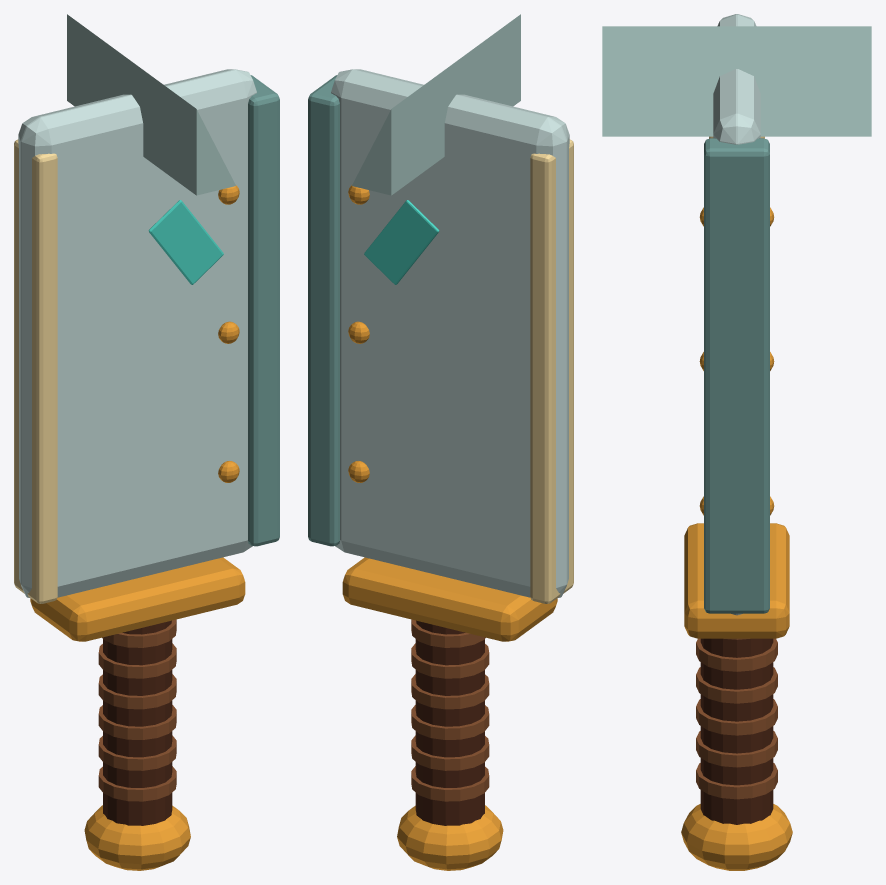
Rendered from WPN_StarterCleaver_V1.glb.
3 renders of one model, left to right at view 1: azimuth 30°, elevation 25°; view 2: azimuth 150°, elevation 25°; view 3: azimuth 270°, elevation 25°, orthographic. The views are drawn at different scales.
Parts seen in each view (by area): view 1: Blade, Spine, CuttingEdge, BladeShoulder, Guard, Grip, Pommel, Rune_1, GripWrap_1, GripWrap_5, GripWrap_2, GripWrap_3 (+2 smaller); view 2: Blade, Spine, CuttingEdge, BladeShoulder, Guard, Grip, Pommel, Rune_-1, GripWrap_1, GripWrap_5, GripWrap_2, GripWrap_3 (+2 smaller); view 3: Spine, BladeShoulder, Grip, Guard, Pommel, Blade, GripWrap_3, GripWrap_5, GripWrap_2, GripWrap_4, GripWrap_1.
Part boxes in pixels (box(x1,y1,x2,y2)): Blade: box(18, 69, 256, 597); Spine: box(248, 75, 279, 546); CuttingEdge: box(14, 139, 57, 603); BladeShoulder: box(67, 14, 235, 195); Guard: box(30, 557, 245, 641); Grip: box(103, 620, 172, 825); Pommel: box(84, 805, 190, 870); Rune_1: box(148, 200, 223, 284); GripWrap_1: box(98, 643, 176, 678); GripWrap_5: box(98, 766, 176, 801); GripWrap_2: box(98, 674, 176, 709); GripWrap_3: box(98, 705, 176, 739); Blade: box(331, 69, 569, 597); Spine: box(308, 75, 339, 546); CuttingEdge: box(530, 139, 573, 603); BladeShoulder: box(352, 14, 520, 195); Guard: box(342, 557, 557, 641); Grip: box(415, 620, 484, 825); Pommel: box(397, 805, 503, 870); Rune_-1: box(364, 200, 439, 284); GripWrap_1: box(411, 643, 489, 678); GripWrap_5: box(411, 766, 489, 801); GripWrap_2: box(411, 674, 489, 709); GripWrap_3: box(411, 705, 489, 739); Spine: box(704, 138, 769, 613); BladeShoulder: box(602, 26, 871, 136); Grip: box(700, 638, 773, 824); Guard: box(684, 523, 789, 638); Pommel: box(681, 804, 792, 870); Blade: box(713, 14, 760, 615); GripWrap_3: box(696, 699, 777, 735); GripWrap_5: box(696, 763, 777, 799); GripWrap_2: box(696, 667, 777, 703); GripWrap_4: box(696, 731, 777, 767); GripWrap_1: box(696, 638, 777, 671).
Size of the model in its own units: 1.42 by 4.45 by 1.3.
